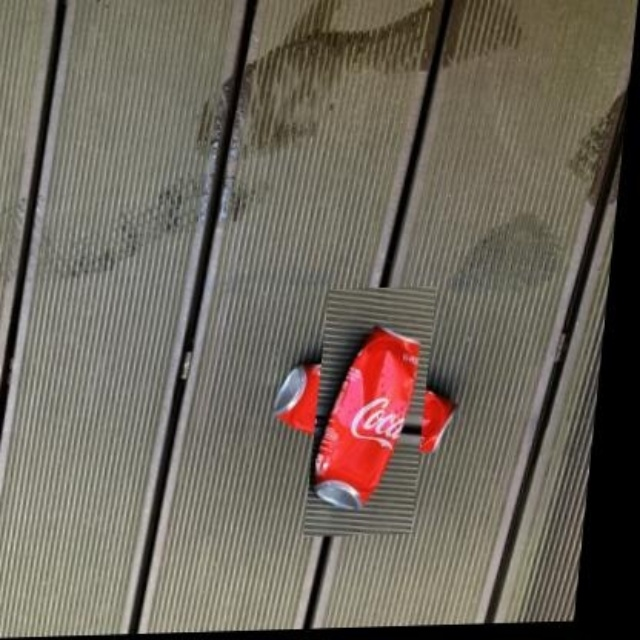trash: (315, 326, 417, 509)
